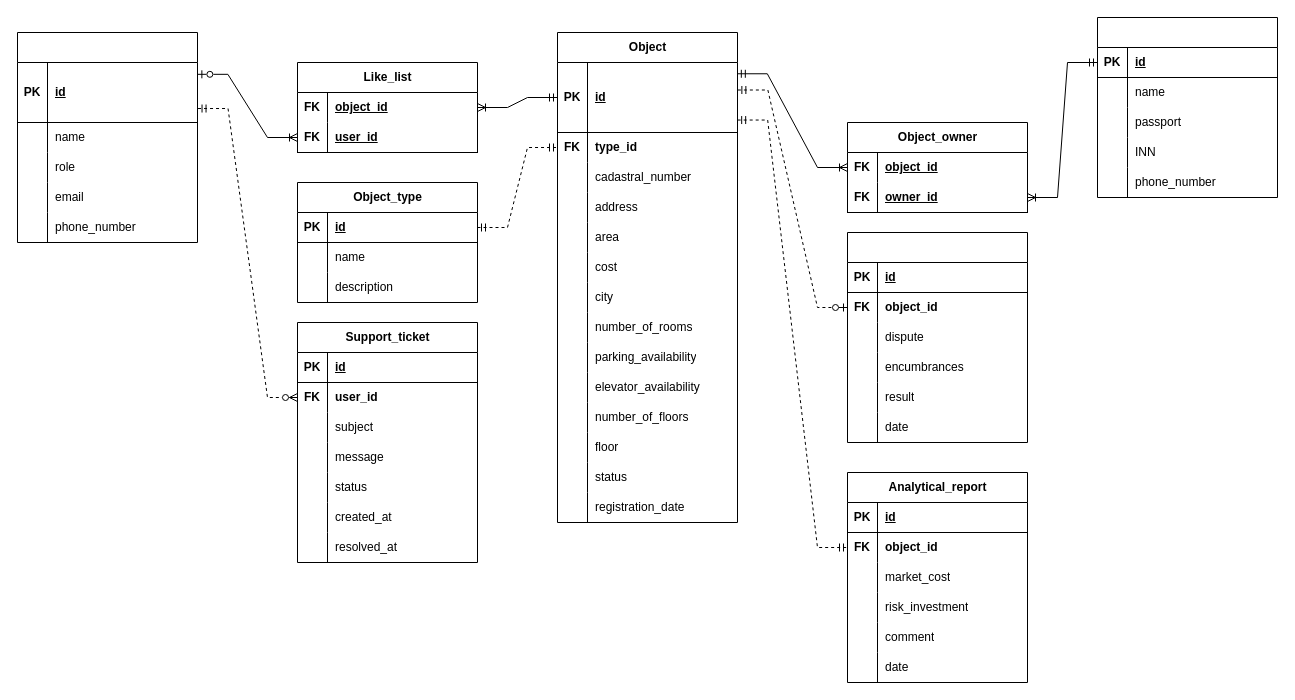
Image size: 1295x700. Some labels were removed from this diagram. Here are the shapes that lost their labels. From the top down, the box of each, then its label:
(1096, 16, 1278, 198): Owner
(16, 32, 198, 242): User
(846, 232, 1028, 442): Legal_Ve rification
